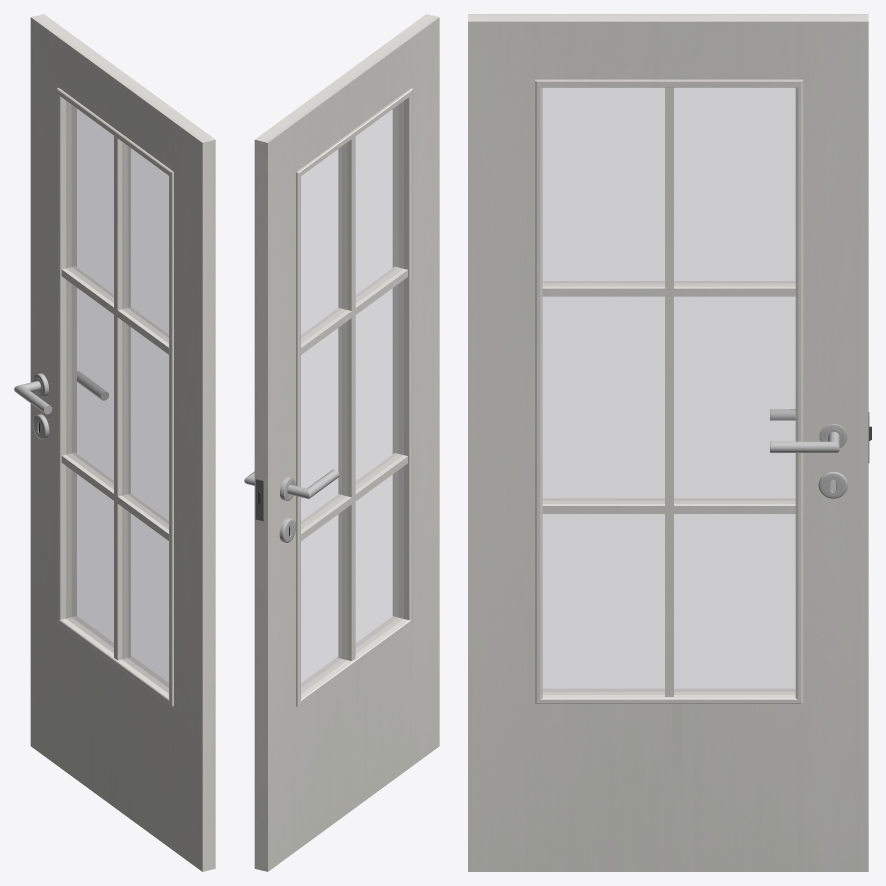
Rendered from door14.glb.
3 views of the same model, side by side, from view 1: azimuth 30°, elevation 25°; view 2: azimuth 150°, elevation 25°; view 3: azimuth 270°, elevation 25° (orthographic). The views are drawn at different scales.
Parts seen in each view (by area): view 1: TB-LA-DQ+SP4, Door_Handle_01; view 2: TB-LA-DQ+SP4, Door_Handle_01; view 3: TB-LA-DQ+SP4, Door_Handle_01.
Boxes of the visible parts, x1,y1,x2,y2 form: TB-LA-DQ+SP4: (30, 14, 215, 871); Door_Handle_01: (14, 371, 108, 439); TB-LA-DQ+SP4: (254, 14, 439, 871); Door_Handle_01: (244, 469, 339, 542); TB-LA-DQ+SP4: (468, 14, 871, 871); Door_Handle_01: (770, 409, 847, 498).
Bounding box in the file's own units: 0.1566 × 1.67 × 0.7188.
Materials: 6 (1 with a texture image).
